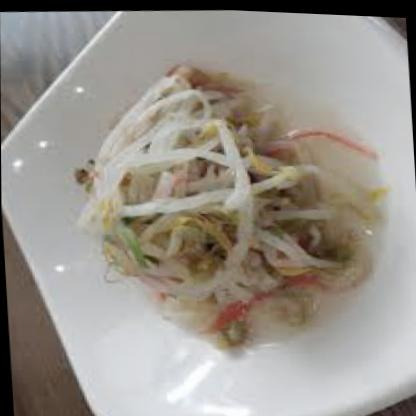seasoned bean sprouts: (74, 65, 342, 329)
